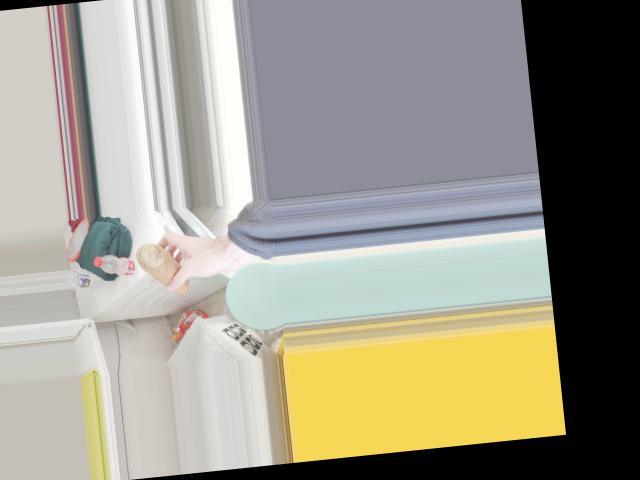sweet_potato: (135, 235, 190, 303)
